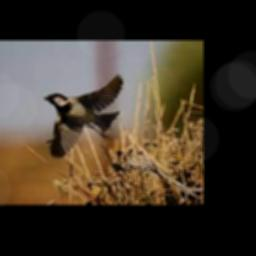Sparrow: (43, 73, 123, 158)
